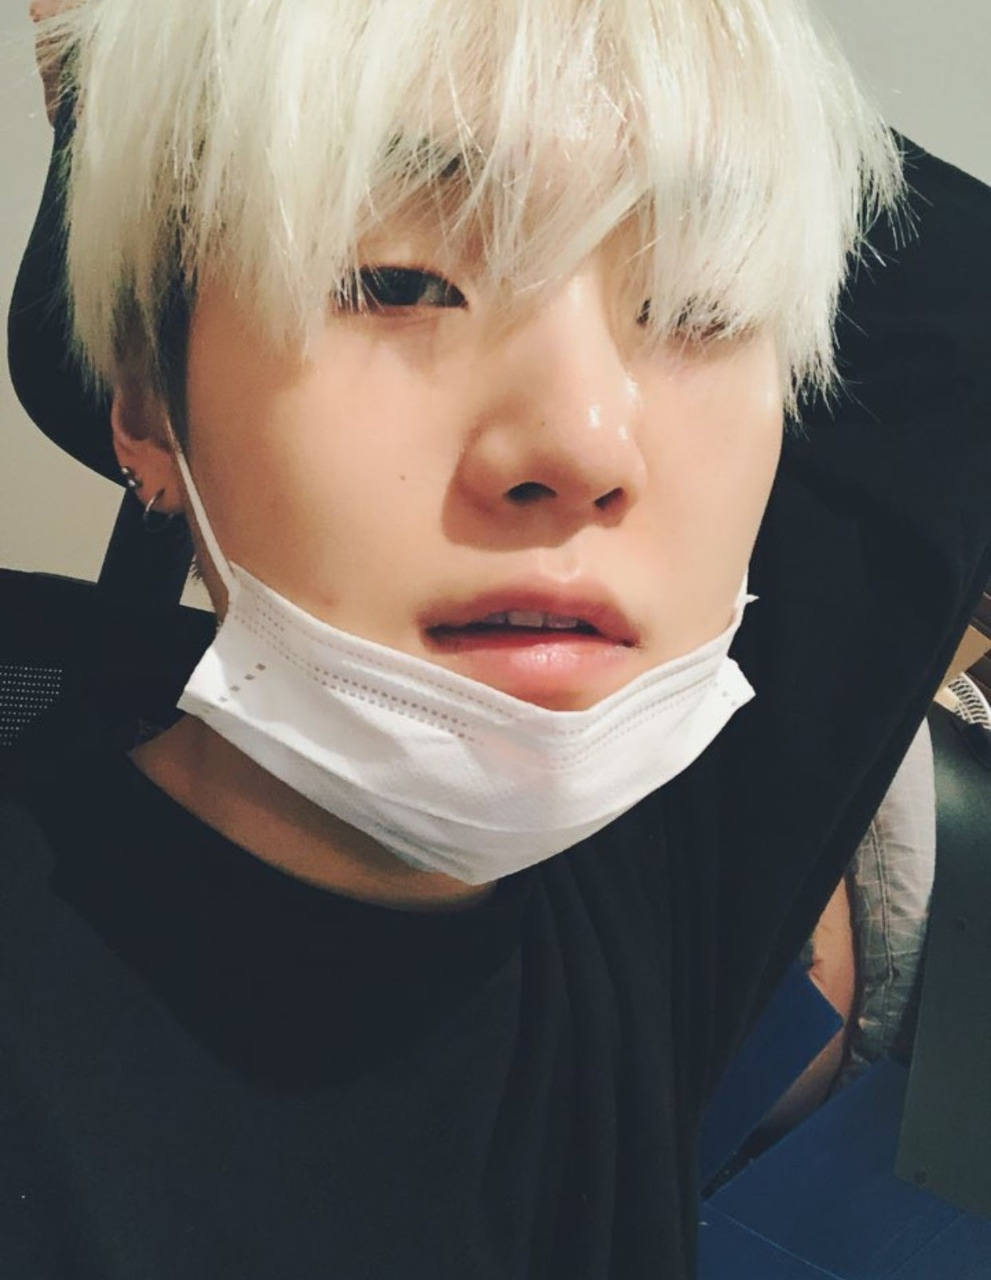mask_weared_incorrect: (235, 215, 765, 833)
